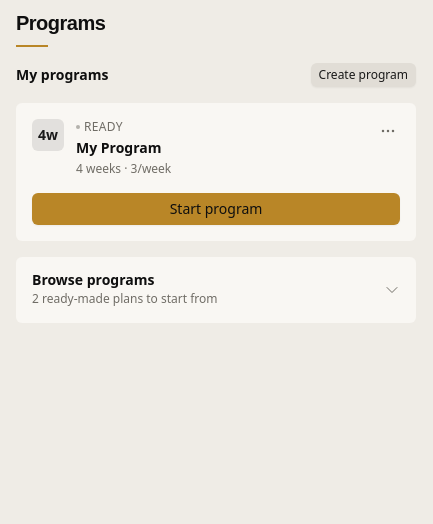
Test: ProgramsPage › links each shared program row to its details view instead of enrolling inline
This screenshot has width=433, height=524.
Click the button "Browse programs 2 ready-made plans to start from" at (216, 290), box [16,256,416,322]
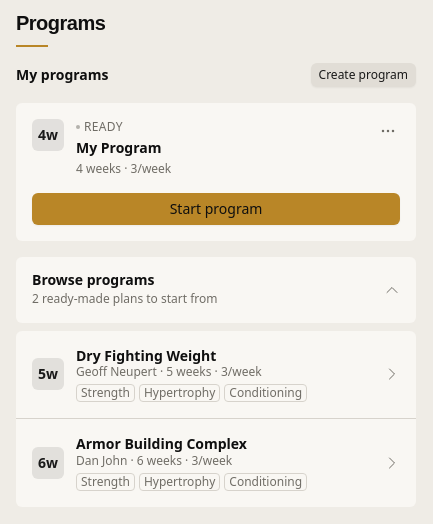
Result: the text "Dry Fighting Weight" is shown at [76,346,216,364]
Result: the text "Armor Building Complex" is shown at [76,434,247,453]
Result: the text "Dan John · 6 weeks · 3/week" is shown at [76,452,232,468]
